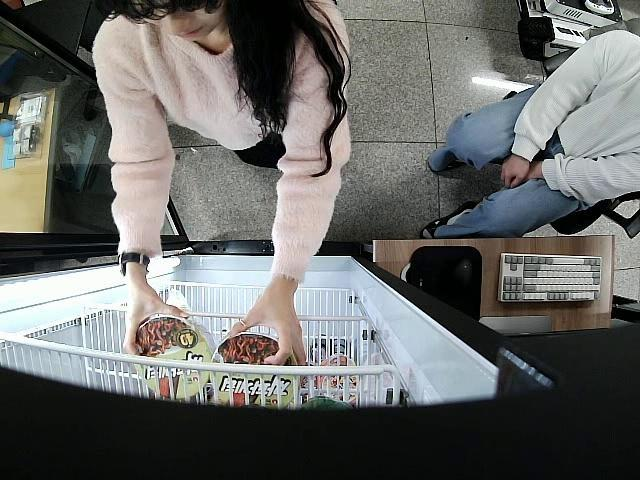03_chapagetti_L: (212, 333, 300, 412), (131, 314, 212, 398)
